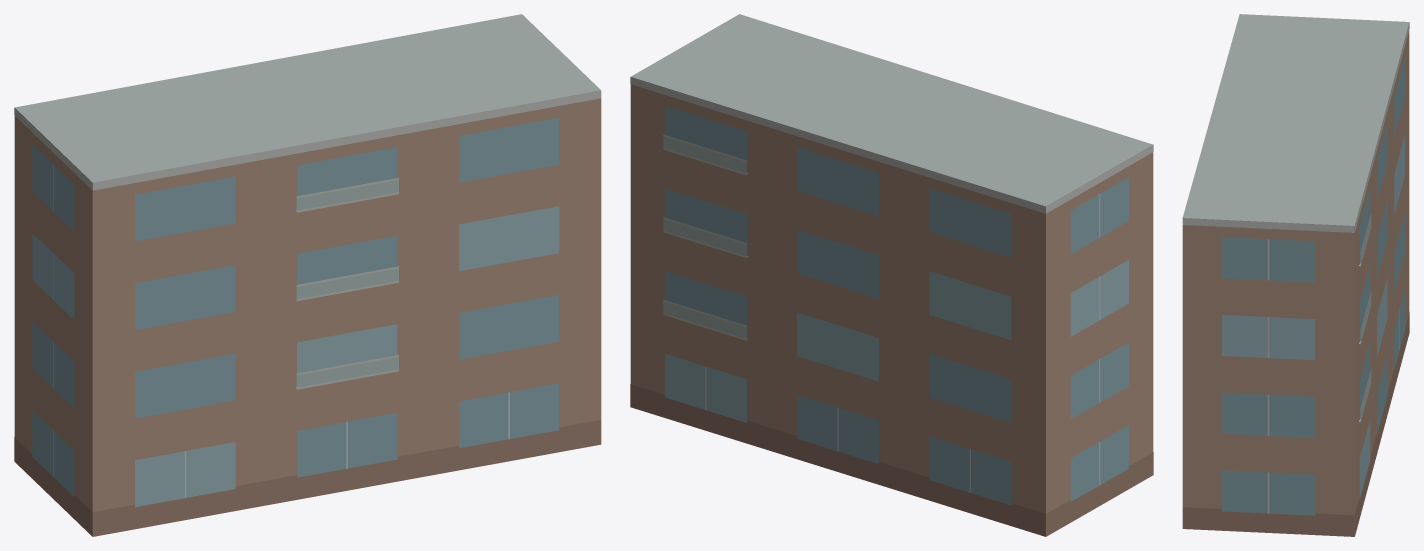
File: survey-upis-32926263.glb
3 renders of one model, left to right at view 1: azimuth 30°, elevation 25°; view 2: azimuth 150°, elevation 25°; view 3: azimuth 270°, elevation 25°, orthographic. The views are drawn at different scales.
Visible parts, largest first — view 1: survey-upis-32926263.tmp; view 2: survey-upis-32926263.tmp; view 3: survey-upis-32926263.tmp.
Boxes of the visible parts, box(x1,y1,x2,y2) form: survey-upis-32926263.tmp: box(14, 14, 601, 536); survey-upis-32926263.tmp: box(630, 14, 1153, 536); survey-upis-32926263.tmp: box(1182, 14, 1409, 536).
Bounding box in the file's own units: 16.04 × 10.96 × 7.26.
